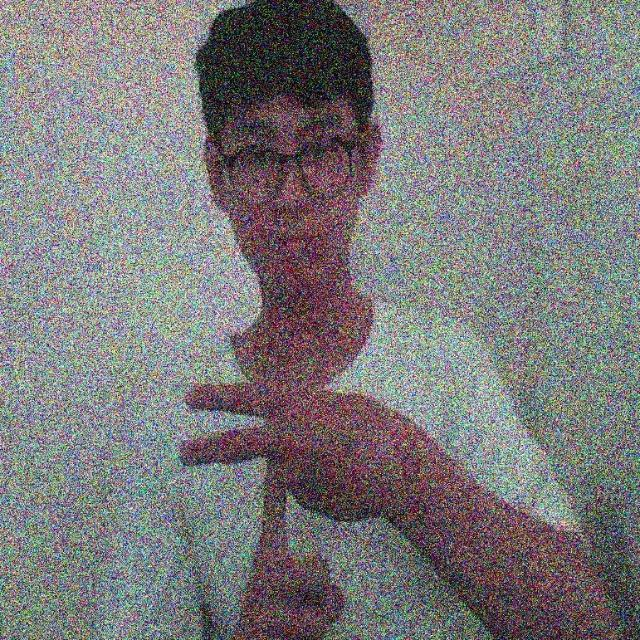F: (167, 358, 432, 640)
